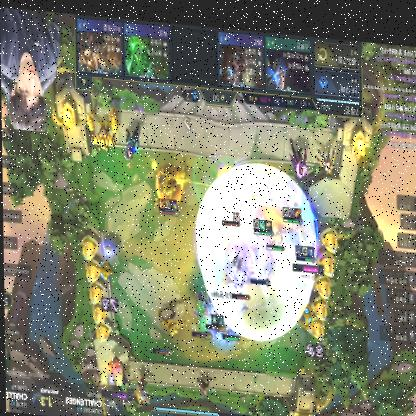streamer: (0, 8, 60, 133)
